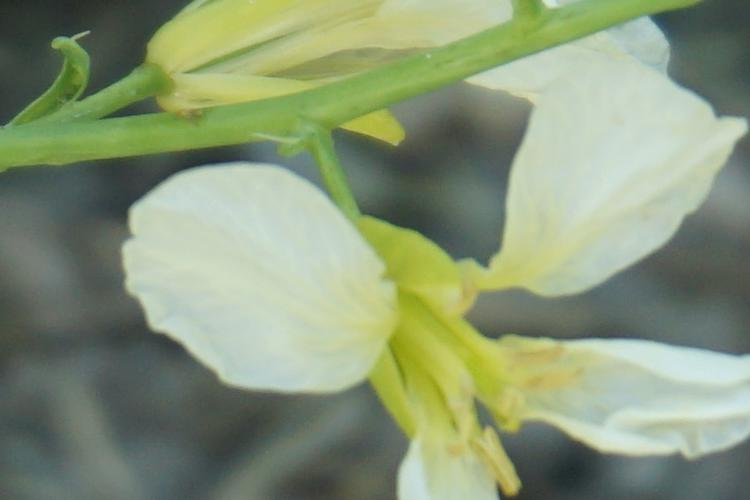white: (139, 71, 743, 500), (147, 6, 684, 118)
